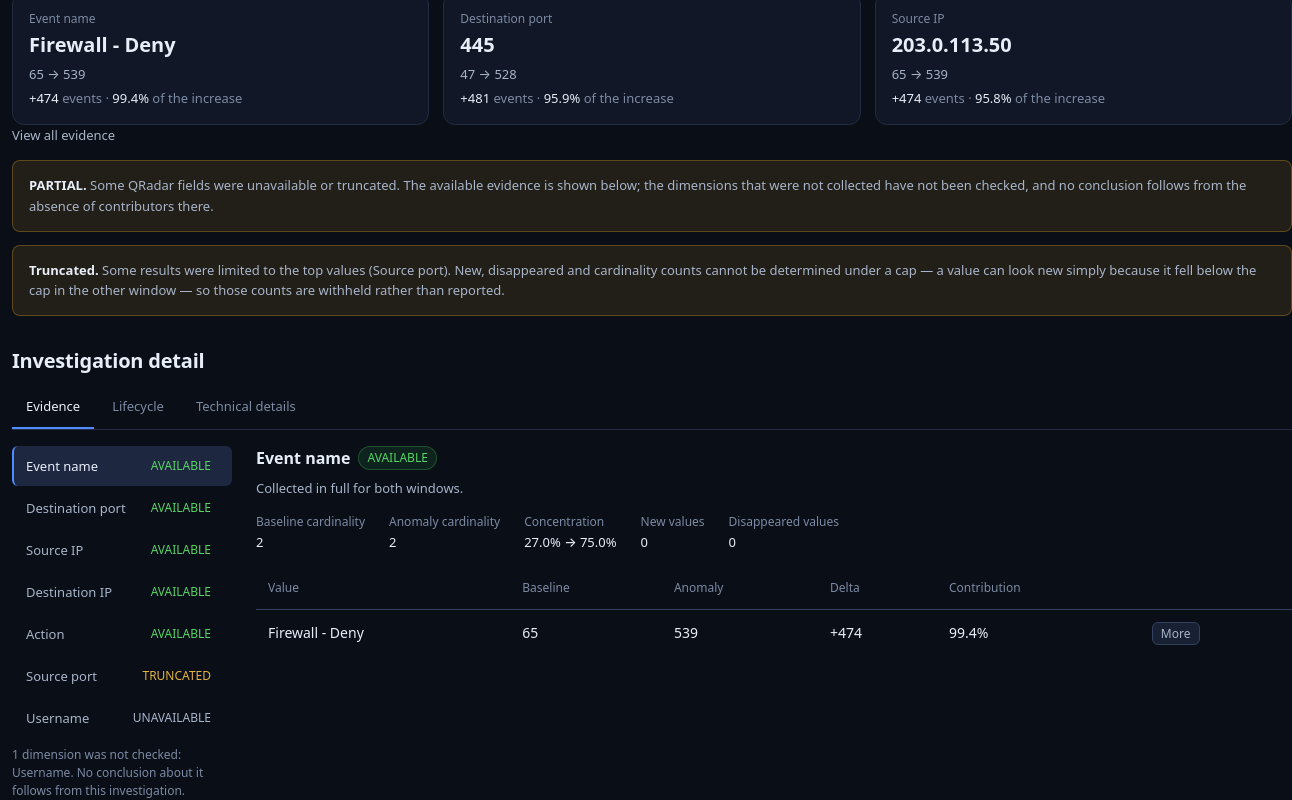
Test: evidence tab › shows the unavailable field as a panel, not an empty table
This screenshot has width=1292, height=800.
(page scrolled)
Click the button "Username UNAVAILABLE": (122, 718) [12, 698, 232, 738]
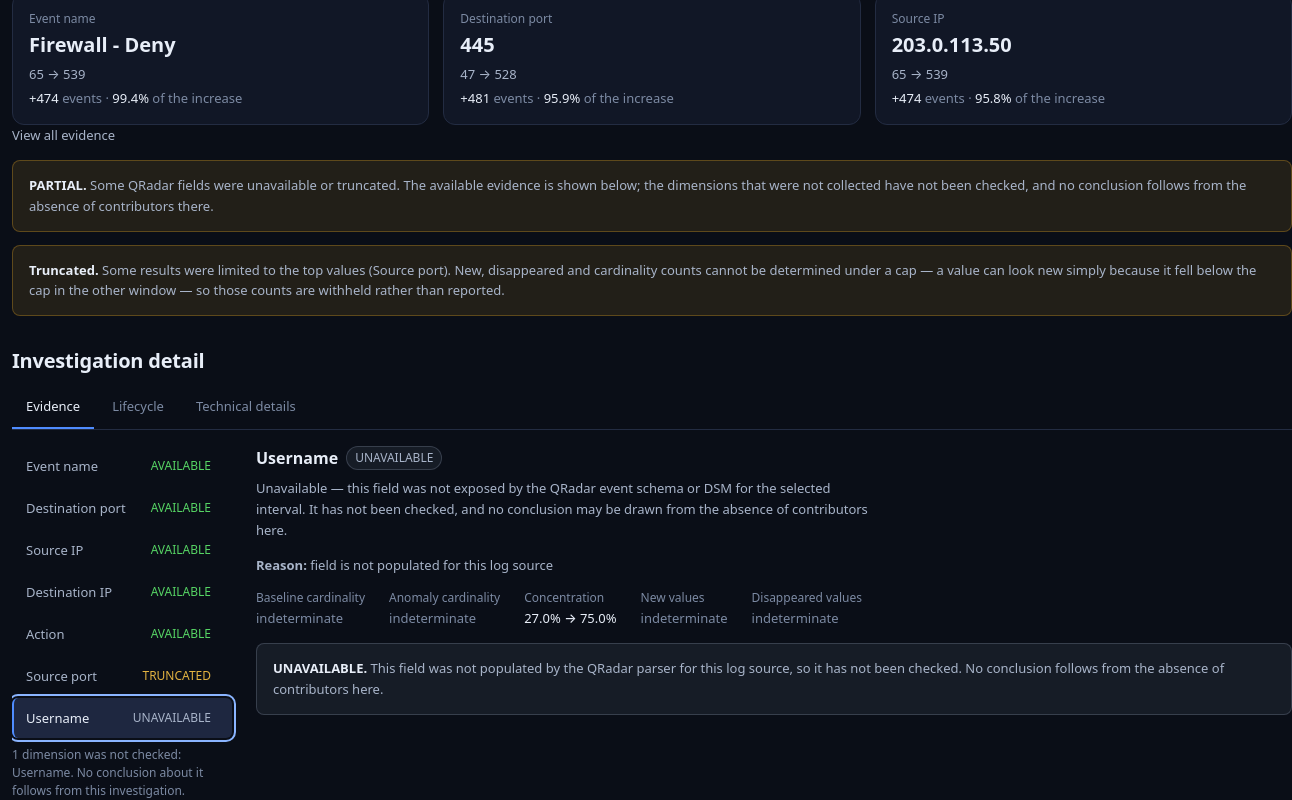
Result: the table is gone
Result: the text "Reason: field is not populated for this log source" is shown at [256, 556, 553, 574]
